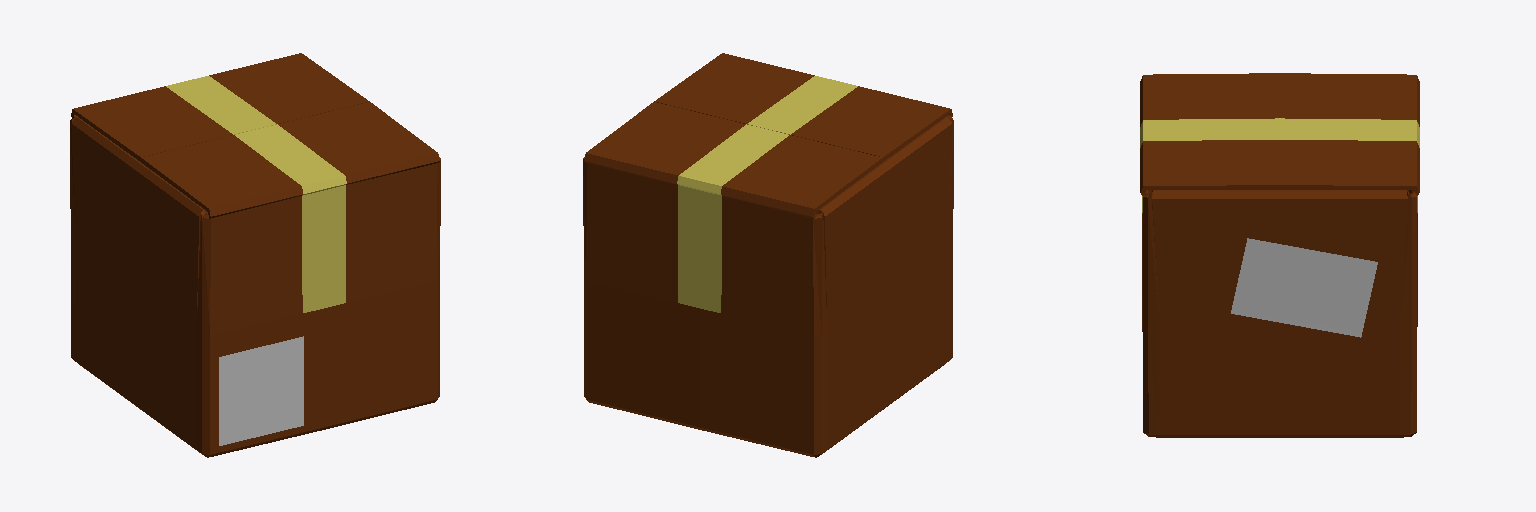
File: Cardboard.029.obj
The picture shows the model from 3 angles: view 1: azimuth 30°, elevation 25°; view 2: azimuth 150°, elevation 25°; view 3: azimuth 270°, elevation 25°; orthographic projection.
Parts seen in each view (by area): view 1: Cardboard.029_Cube.015, sign4.014_sign4.010; view 2: Cardboard.029_Cube.015; view 3: Cardboard.029_Cube.015, BlueSticker.013_Plane.009.
Boxes of the visible parts, x1,y1,x2,y2 form: Cardboard.029_Cube.015: [70, 53, 440, 457]; sign4.014_sign4.010: [219, 336, 303, 445]; Cardboard.029_Cube.015: [583, 53, 953, 457]; Cardboard.029_Cube.015: [1140, 73, 1419, 437]; BlueSticker.013_Plane.009: [1231, 238, 1377, 337].
Bounding box in the file's own units: 0.3852 × 0.3861 × 0.3856.